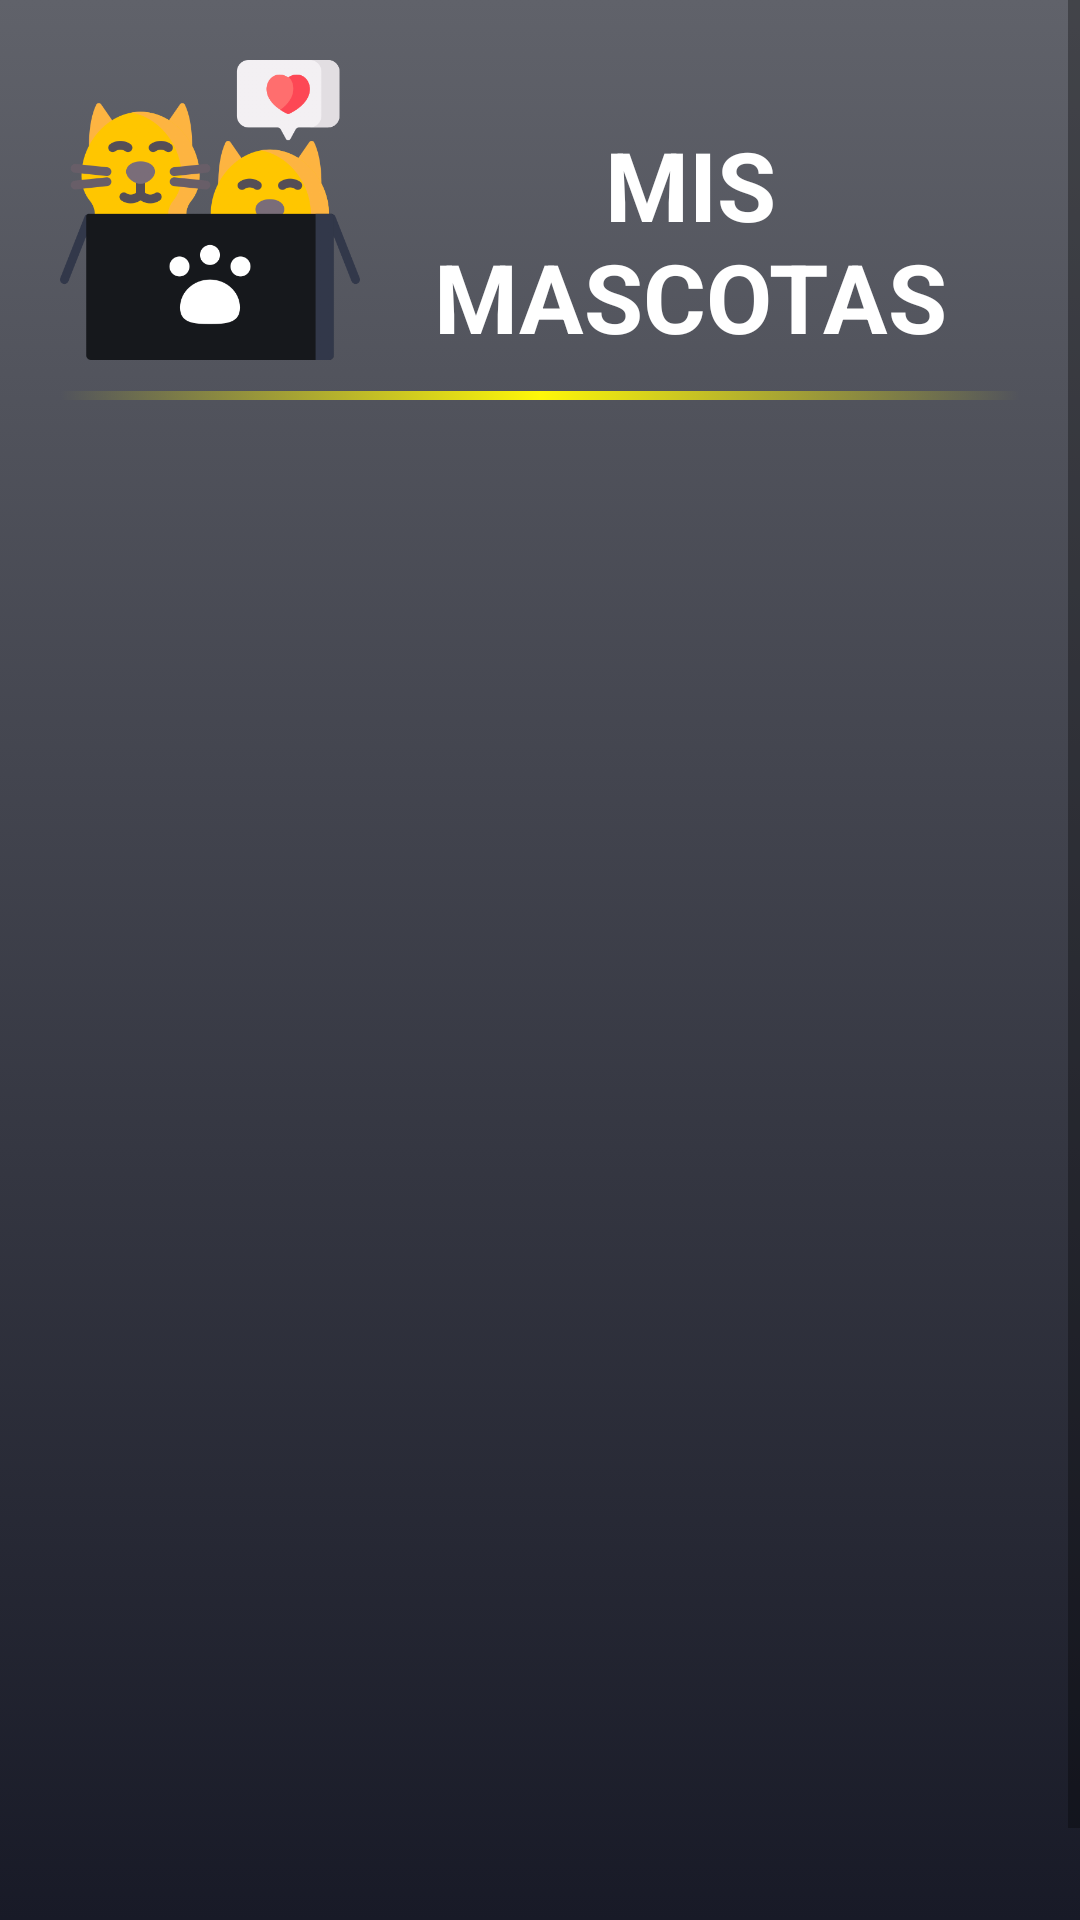

Icons on this 1080 x 1920 Android screen, each with its box as [x1=x1, y1=y1, x2=x2, y2=y2]:
panel pet: [x1=60, y1=60, x2=360, y2=360]
